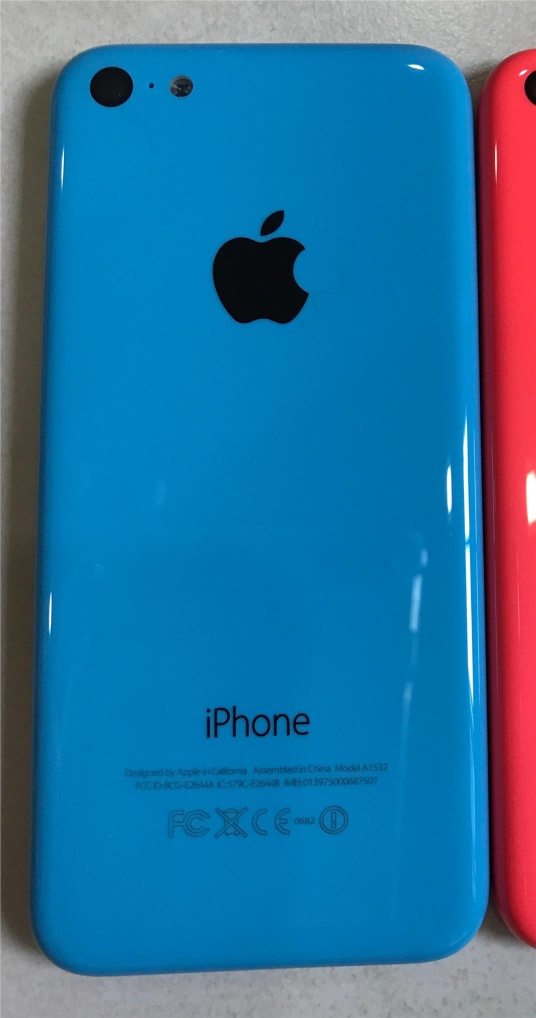apple: (172, 177, 369, 332)
